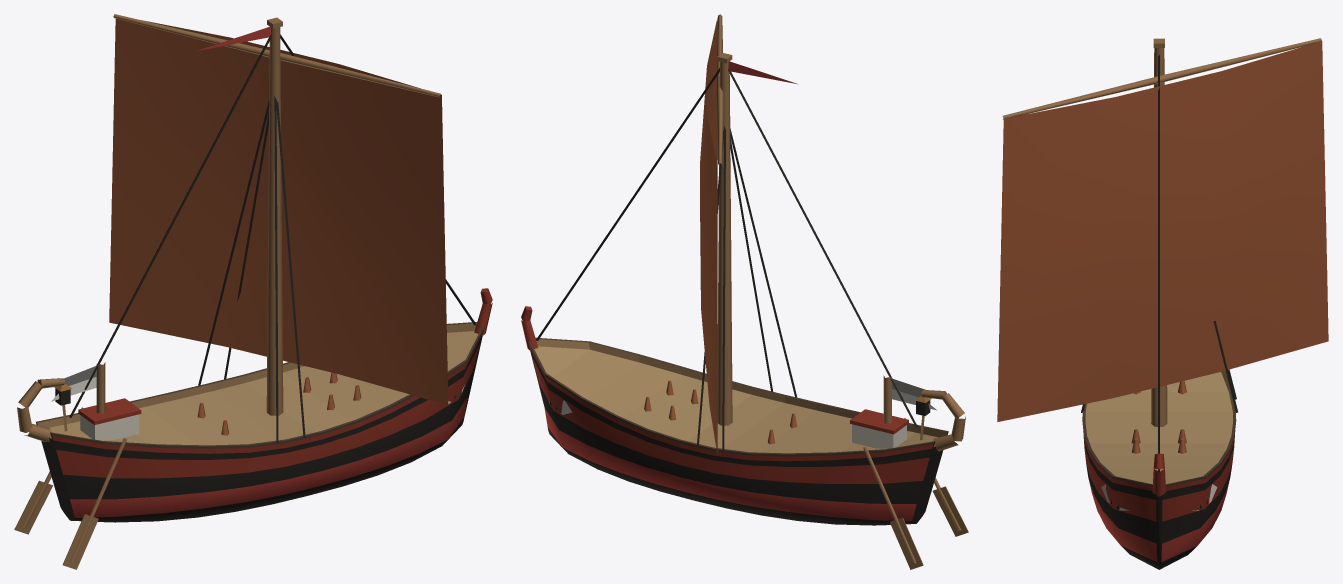
The model's file is hull_eur_greek_large.glb.
3 views of the same model, side by side, from view 1: azimuth 30°, elevation 25°; view 2: azimuth 150°, elevation 25°; view 3: azimuth 270°, elevation 25° (orthographic). The views are drawn at different scales.
Parts seen in each view (by area): view 1: sail_main, hull, mast, deck, rigging, yards, flag; view 2: hull, sail_main, rigging, mast, deck, flag, yards; view 3: sail_main, hull, yards, rigging, mast, deck.
Boxes of the visible parts, x1,y1,x2,y2 form: sail_main: (109,18,448,404); hull: (17,288,492,522); mast: (96,17,283,415); deck: (14,372,361,569); rigging: (69,34,476,443); yards: (113,14,440,97); flag: (51,26,270,401); hull: (521,306,965,525); sail_main: (700,17,717,454); rigging: (536,68,917,451); mast: (717,53,891,425); deck: (644,380,968,569); flag: (728,61,936,410); yards: (716,14,723,164); sail_main: (997,41,1328,421); hull: (1082,370,1236,569); yards: (1002,38,1321,119); rigging: (1081,55,1237,471); mast: (1151,38,1167,426); deck: (1131,381,1186,453).
Bounding box in the file's own units: 19.39 × 18.61 × 12.
